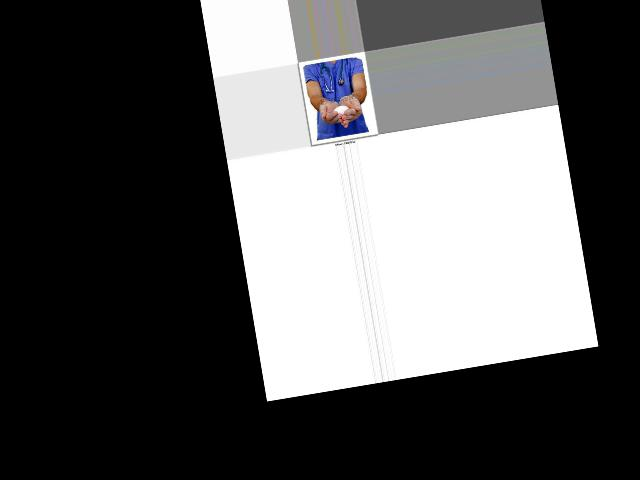egg: (332, 104, 349, 117)
